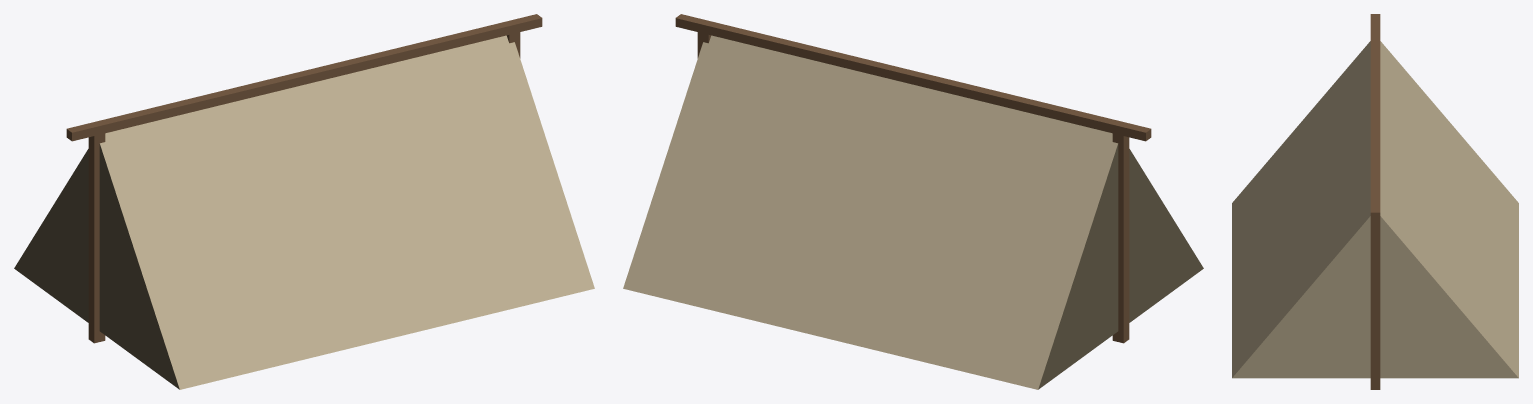
Rendered from tent.glb.
The picture shows the model from 3 angles, left to right: view 1: azimuth 30°, elevation 25°; view 2: azimuth 150°, elevation 25°; view 3: azimuth 270°, elevation 25°; orthographic projection. The views are drawn at different scales.
Parts seen in each view (by area): view 1: tent; view 2: tent; view 3: tent.
Boxes of the visible parts, left/top/right/bottom form: tent: left=14, top=14, right=594, bottom=389; tent: left=623, top=14, right=1203, bottom=389; tent: left=1232, top=14, right=1518, bottom=389.
Size of the model in its own units: 3.42 by 1.5 by 2.09.
